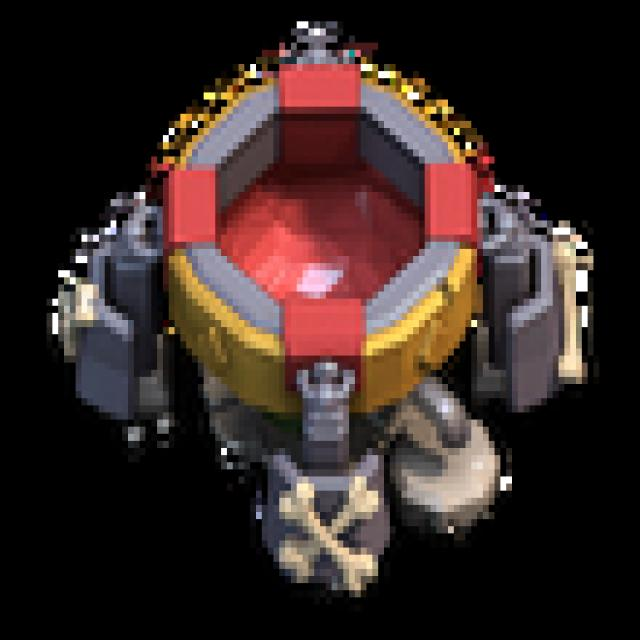dark_spell_factory: (54, 7, 614, 628)
